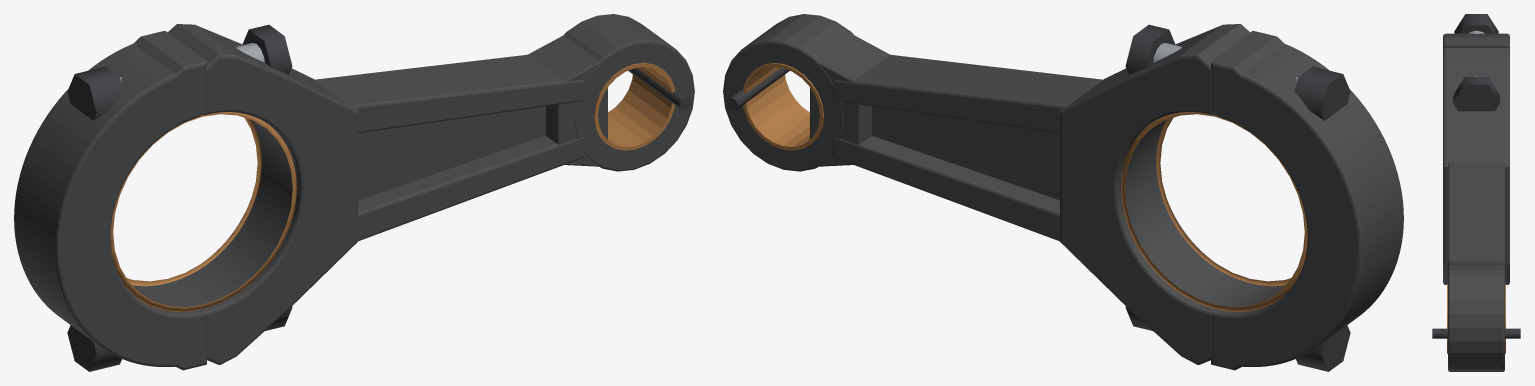
File: conrod.glb
3 views of the same model, side by side, from view 1: azimuth 30°, elevation 25°; view 2: azimuth 150°, elevation 25°; view 3: azimuth 270°, elevation 25° (orthographic). The views are drawn at different scales.
Parts seen in each view (by area): view 1: conrod:forgedDark, conrod:bronze, conrod:darkSteel; view 2: conrod:forgedDark, conrod:bronze, conrod:darkSteel; view 3: conrod:forgedDark, conrod:darkSteel, conrod:bronze.
Part boxes in pixels (box(x1,y1,x2,y2)): conrod:forgedDark: box(14, 14, 694, 370); conrod:bronze: box(110, 63, 674, 311); conrod:darkSteel: box(67, 24, 691, 371); conrod:forgedDark: box(723, 14, 1403, 370); conrod:bronze: box(743, 63, 1307, 311); conrod:darkSteel: box(726, 24, 1350, 371); conrod:forgedDark: box(1443, 33, 1509, 371); conrod:darkSteel: box(1432, 14, 1520, 338); conrod:bronze: box(1447, 283, 1505, 353).
Bounding box in the file's own units: 190 × 87.73 × 30.01.
